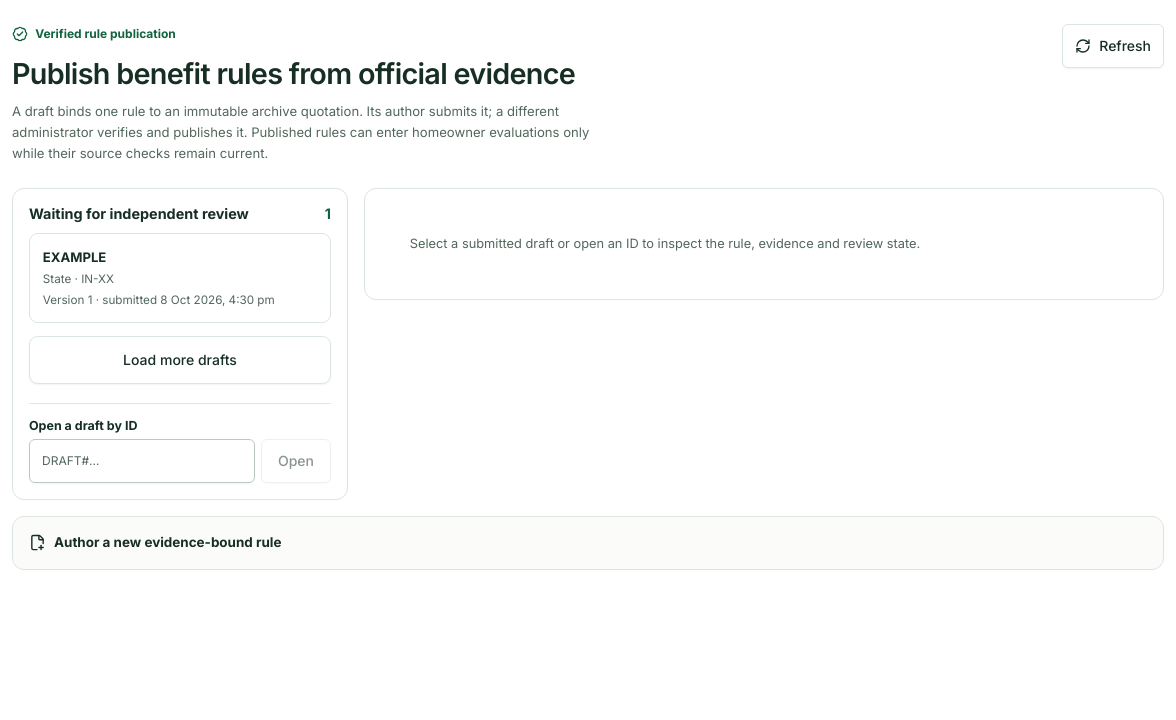
Test: policy publication review › loads the next pending review page without duplicating drafts
Click the button "Load more drafts" at coordinates (180, 360), box [29, 336, 331, 384]
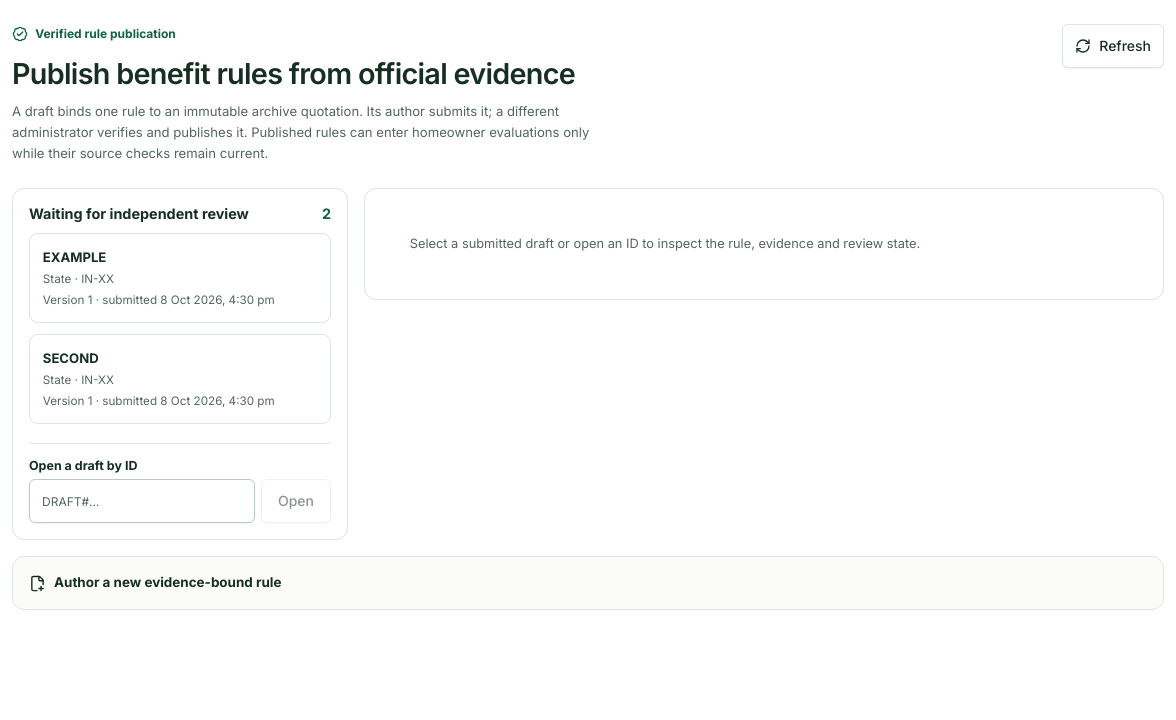
expect the button "SECOND" is shown: met, box [29, 334, 331, 424]
expect the number of buttons "EXAMPLE" is 1: met, box [29, 233, 331, 323]
